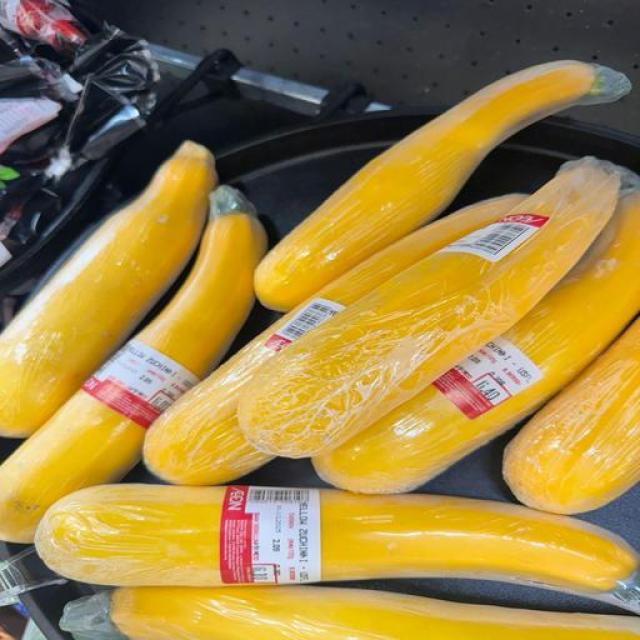organic: (2, 0, 640, 640), (82, 377, 161, 428), (219, 485, 253, 583), (433, 369, 492, 418), (499, 214, 548, 227), (0, 165, 19, 188)
